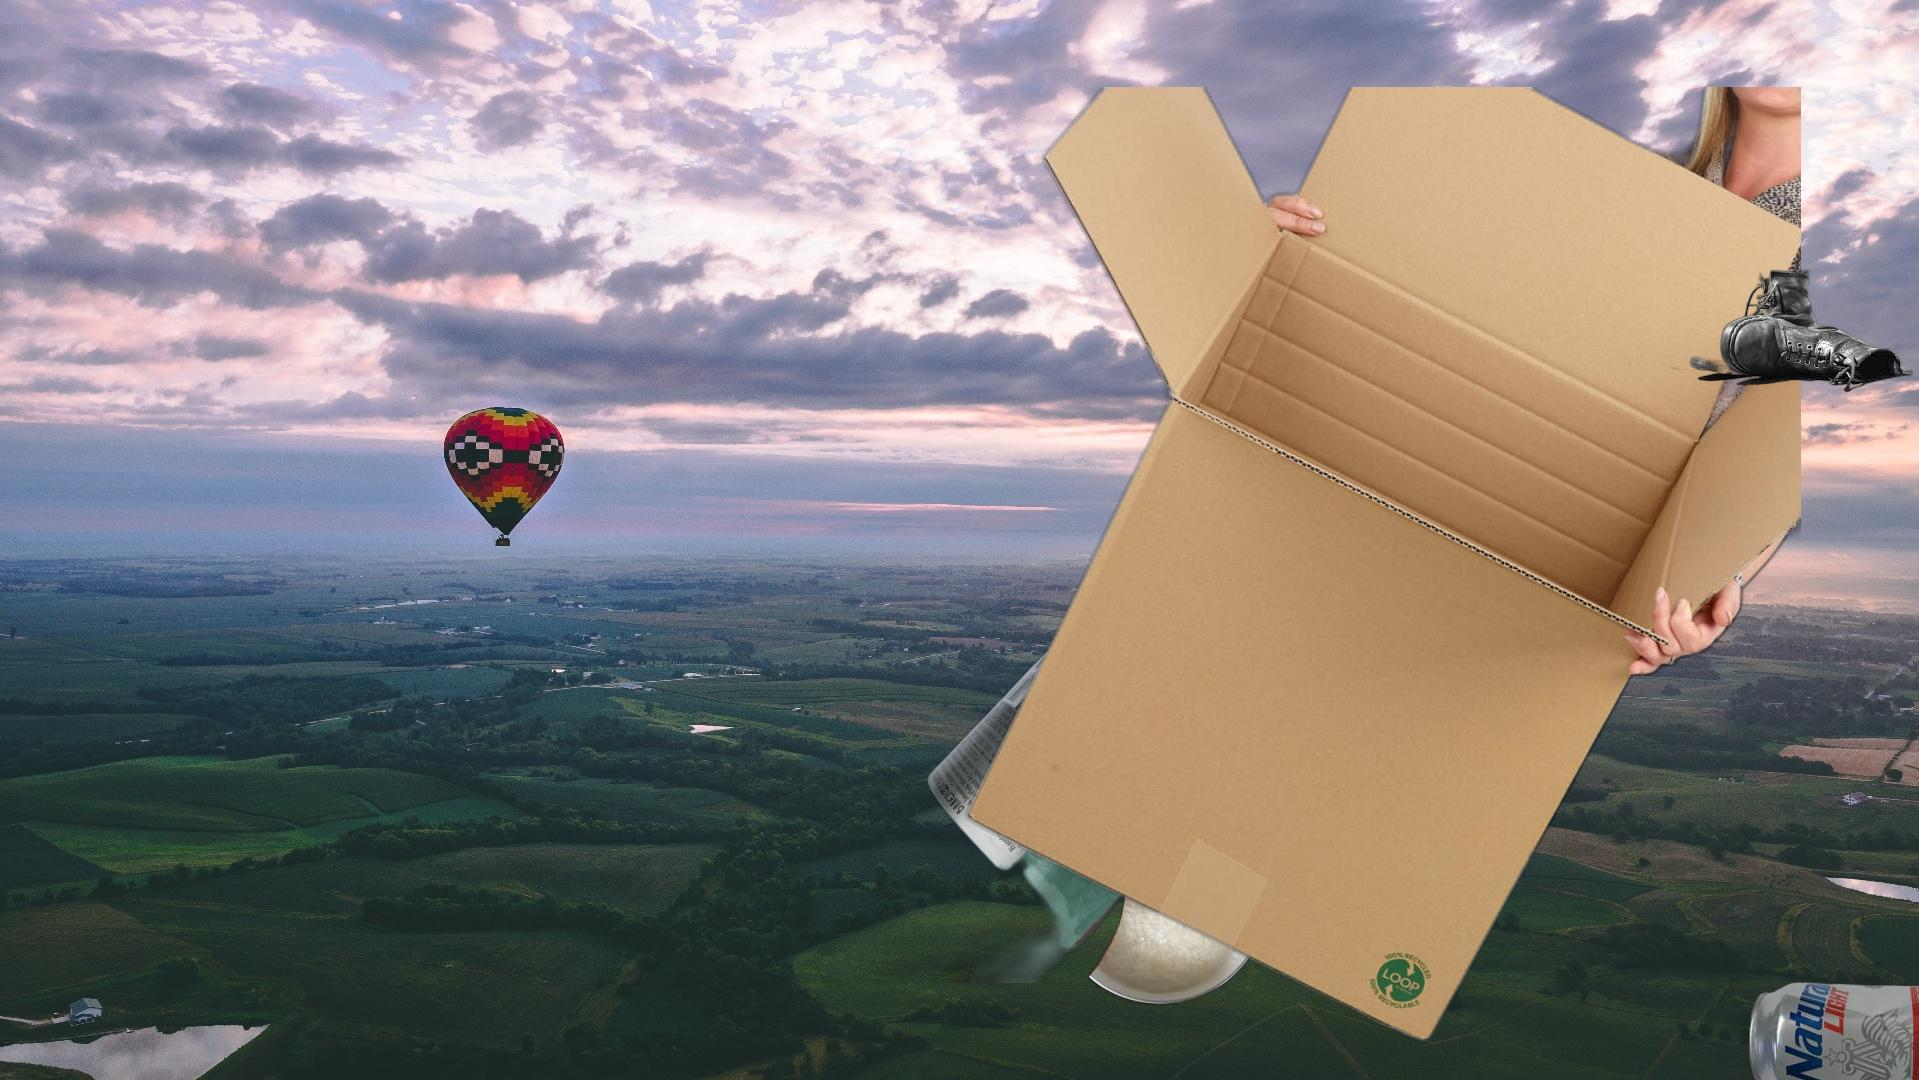biological: (971, 786, 1272, 1080)
glass: (784, 626, 1234, 982), (1191, 393, 1354, 725)
metal-cans: (1744, 980, 1919, 1080)
plastic-bottles: (1094, 1021, 1607, 1080)
shoes: (1671, 266, 1915, 396)
trashbox-cardboard: (959, 87, 1800, 1050)
